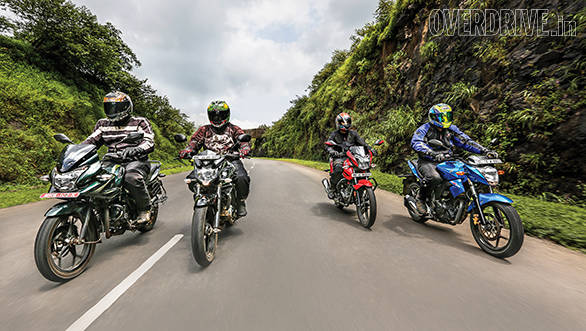helmet: (98, 87, 134, 125), (202, 99, 233, 130), (427, 98, 452, 130), (335, 106, 354, 132)
